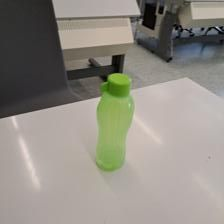bottle: (92, 73, 136, 170)
